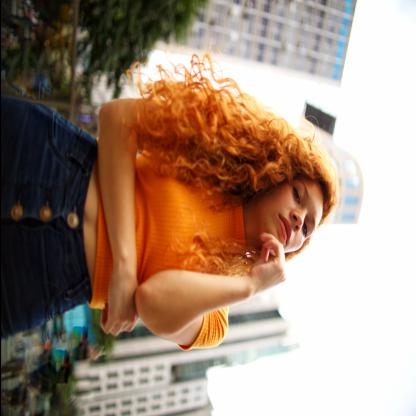Eye: (289, 182, 301, 208), (302, 221, 310, 240)
Mouth: (276, 212, 294, 244)
Nose: (289, 207, 305, 232)
